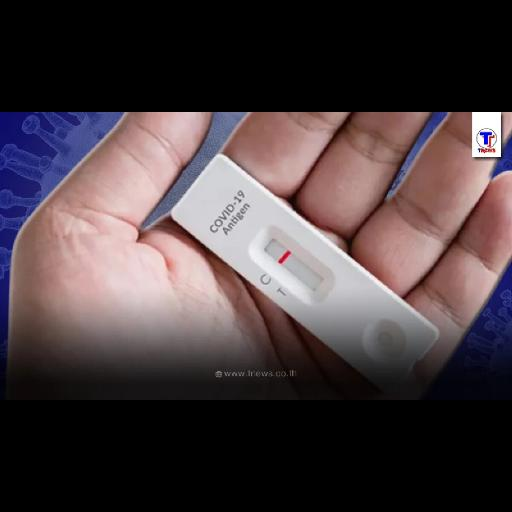Neg: (168, 152, 440, 396)
